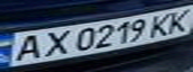0: (72, 25, 96, 53)
1: (112, 19, 136, 45)
2: (93, 21, 118, 51)
9: (127, 16, 154, 43)
A: (3, 33, 48, 64)
K: (145, 11, 178, 38), (160, 7, 193, 34)
X: (36, 28, 72, 58)
